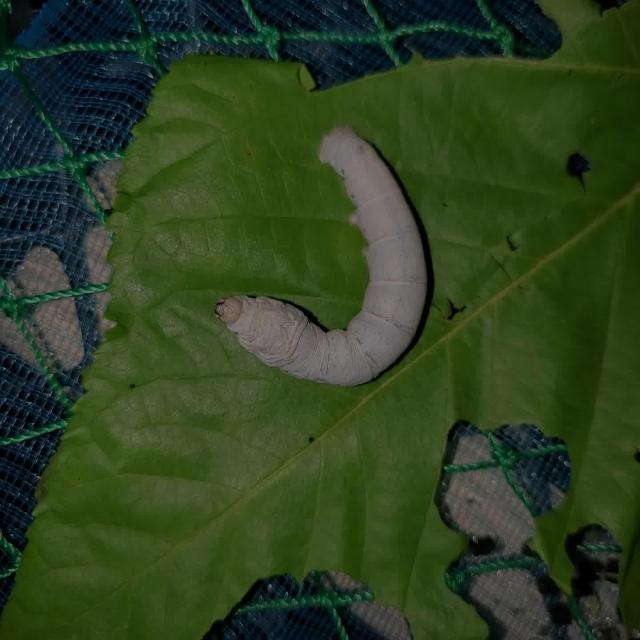Healthy: (210, 116, 433, 400)
